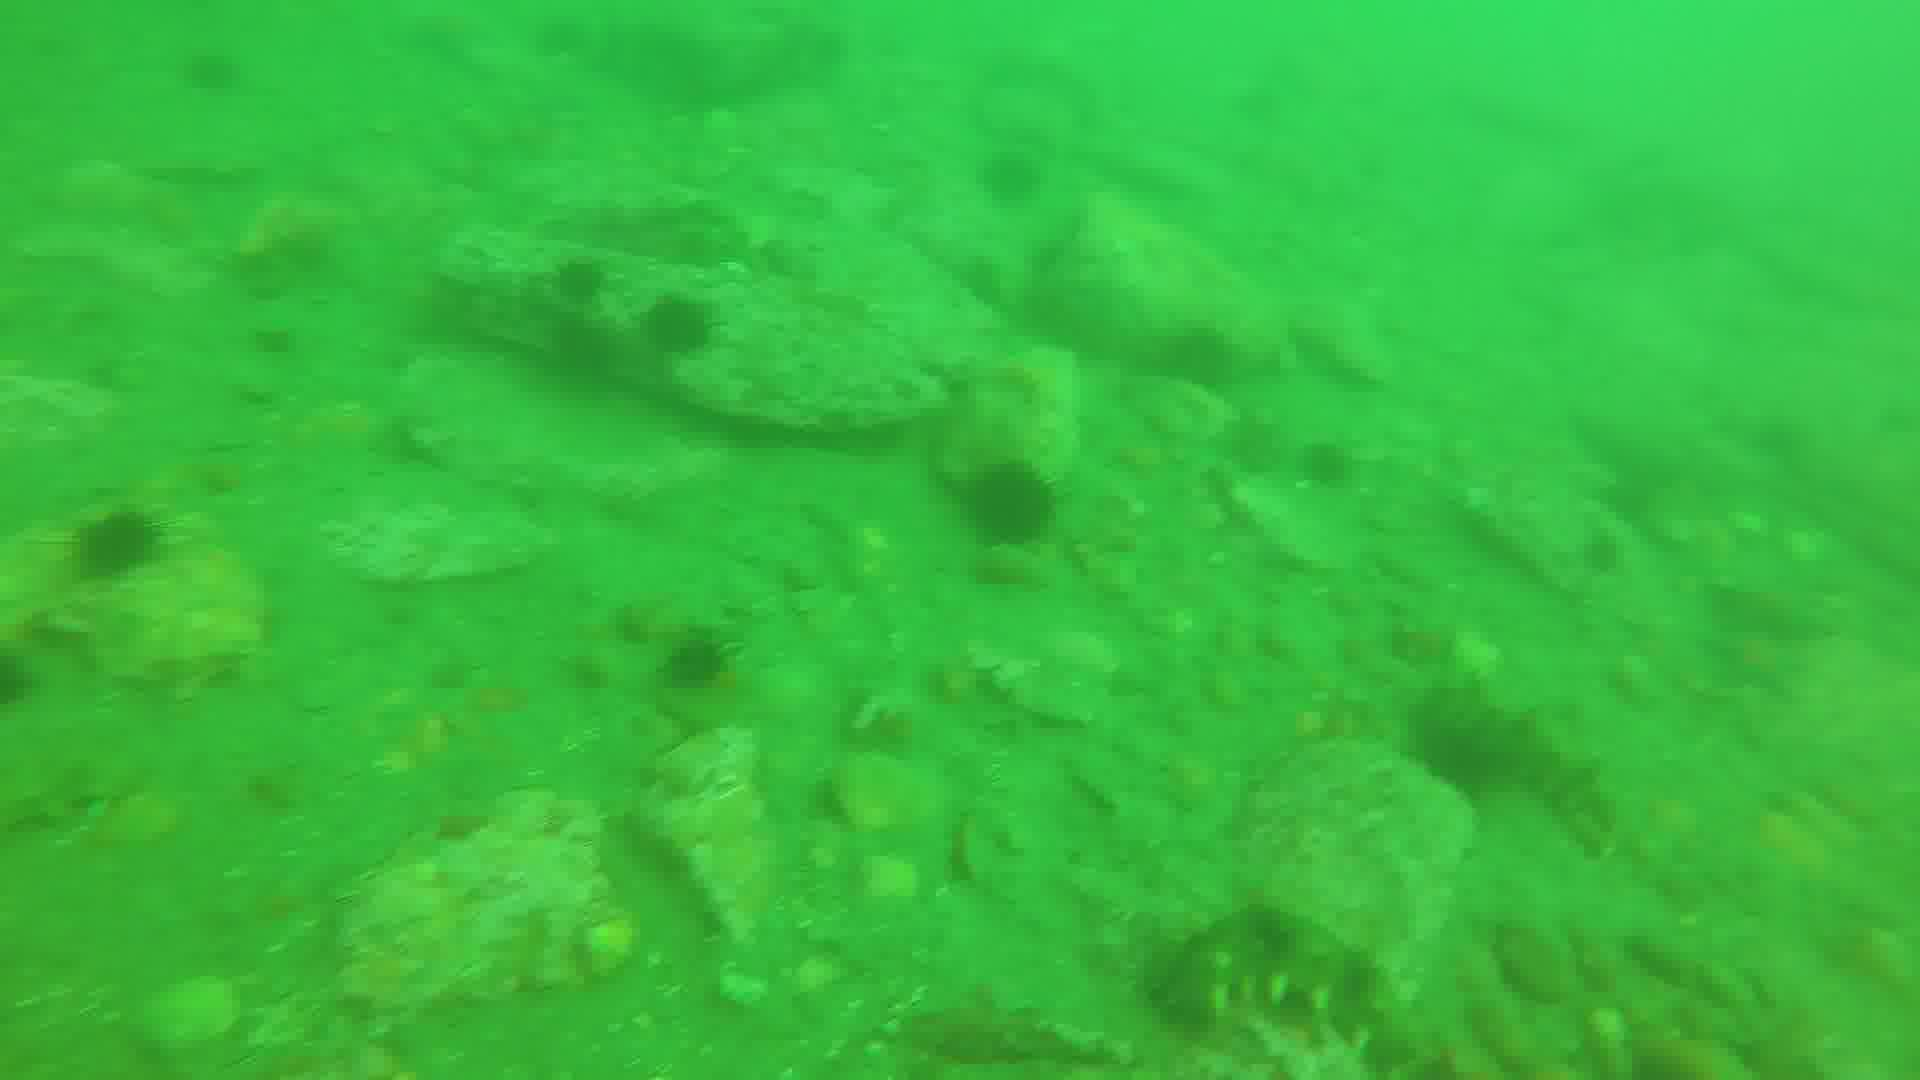echinus: (980, 463, 1060, 550), (650, 282, 731, 365), (1168, 316, 1247, 400), (76, 512, 158, 571), (665, 638, 737, 688), (545, 251, 603, 298), (1299, 443, 1352, 489)
holothurian: (1424, 684, 1625, 847), (1154, 913, 1387, 1035)
